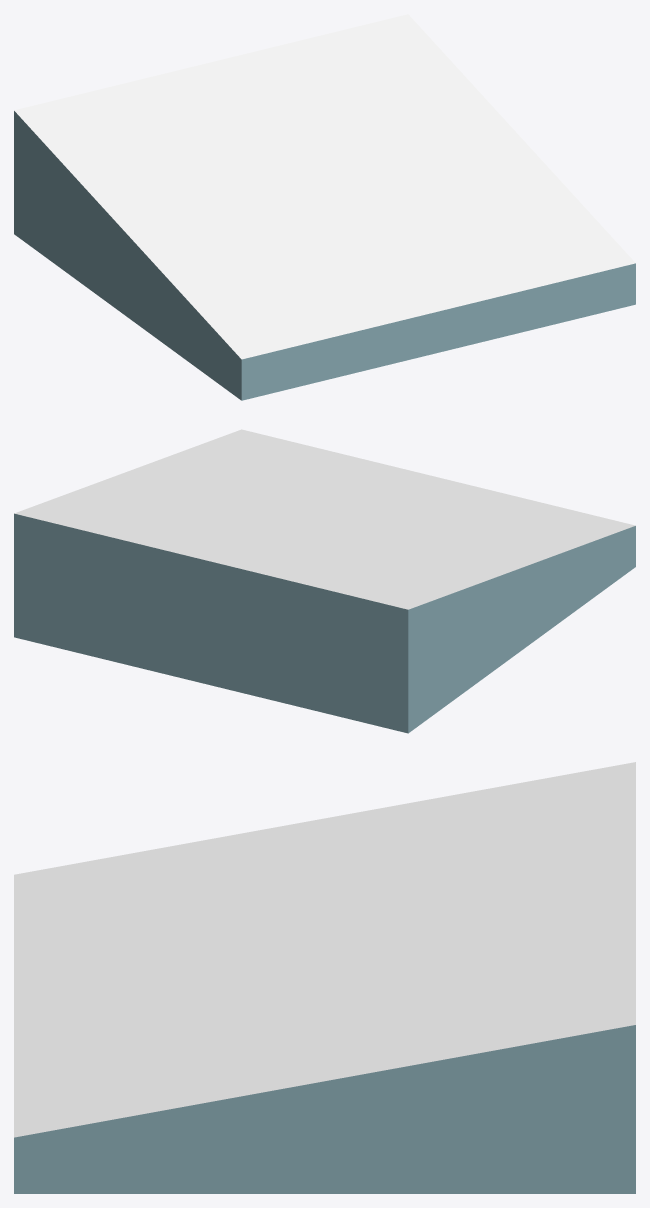
Rendered from Terrain_Modular_Tiles_Snow_Ice_Ramp_Large_01.fbx.
The picture shows the model from 3 angles, top to bottom: view 1: azimuth 30°, elevation 25°; view 2: azimuth 150°, elevation 25°; view 3: azimuth 270°, elevation 25°; orthographic projection. The views are drawn at different scales.
Parts seen in each view (by area): view 1: Terrain_Modular_Tiles_Snow_Ice_Ramp_Large_01; view 2: Terrain_Modular_Tiles_Snow_Ice_Ramp_Large_01; view 3: Terrain_Modular_Tiles_Snow_Ice_Ramp_Large_01.
Boxes of the visible parts, box(x1,y1,x2,y2) form: Terrain_Modular_Tiles_Snow_Ice_Ramp_Large_01: box(14, 14, 635, 400); Terrain_Modular_Tiles_Snow_Ice_Ramp_Large_01: box(14, 429, 635, 733); Terrain_Modular_Tiles_Snow_Ice_Ramp_Large_01: box(14, 762, 635, 1193).
Size of the model in its own units: 118 by 35.43 by 118.
